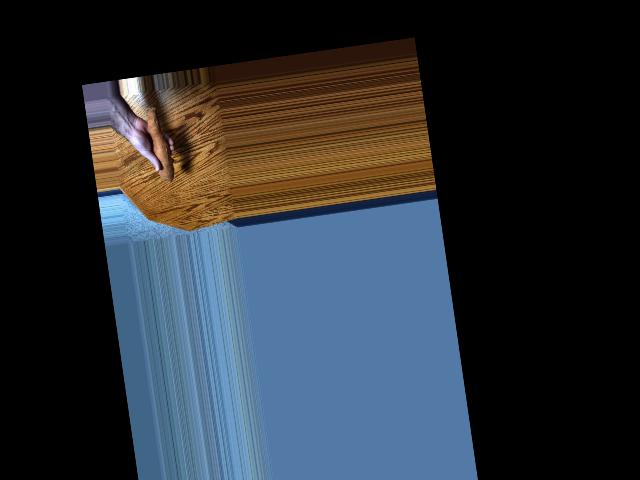sweet_potato: (143, 101, 178, 185)
